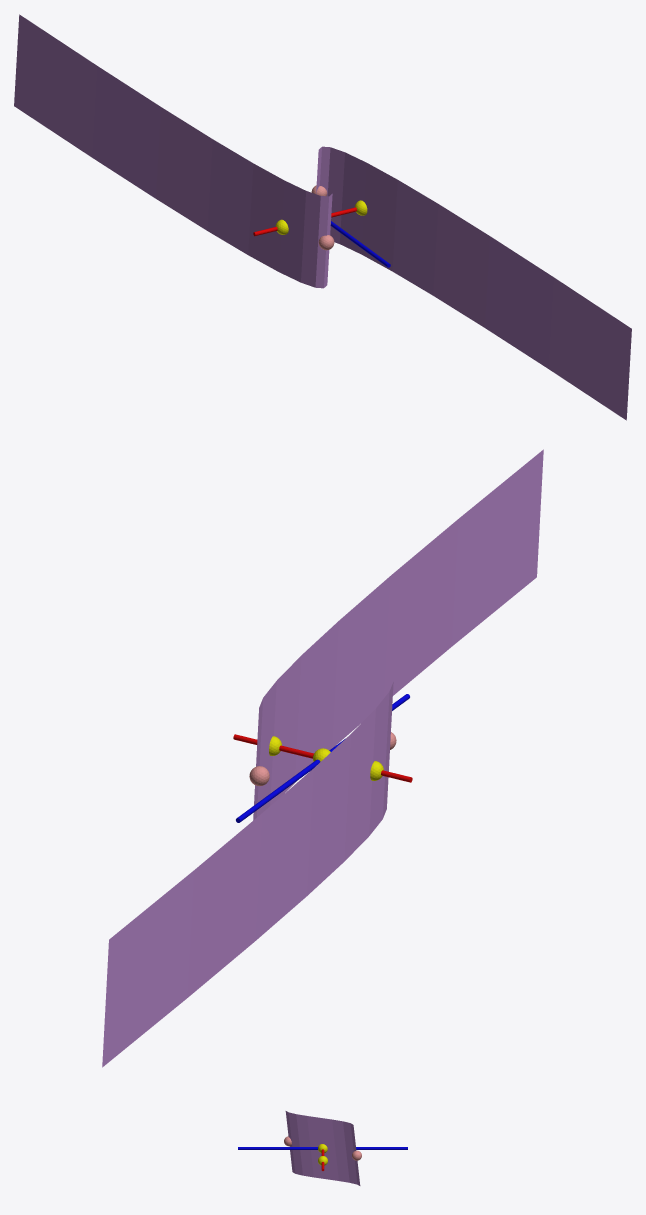
File: polynomial_functions.glb
3 views of the same model, one above another, from view 1: azimuth 30°, elevation 25°; view 2: azimuth 150°, elevation 25°; view 3: azimuth 270°, elevation 25° (orthographic). The views are drawn at different scales.
Visible parts, largest first — view 1: world; view 2: world; view 3: world.
Part boxes in pixels (left/top/right/bottom): world: left=14, top=14, right=631, bottom=420; world: left=102, top=449, right=543, bottom=1067; world: left=238, top=1111, right=407, bottom=1185.
Bounding box in the file's own units: 6 × 4 × 36.4.
